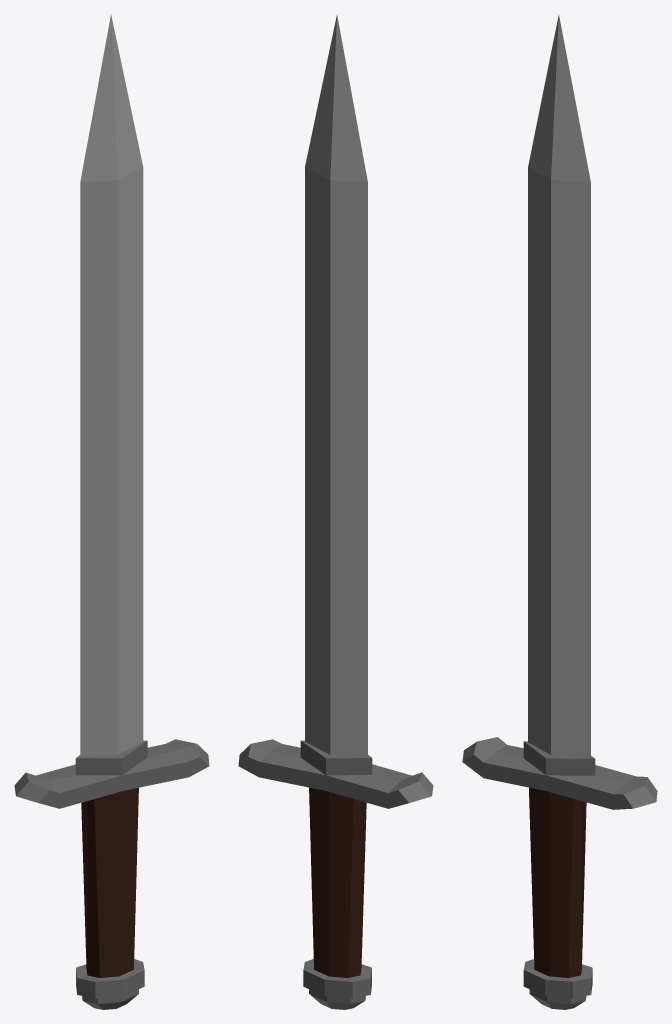
Rendered from Weapons.fbx.
3 renders of one model, left to right at view 1: azimuth 30°, elevation 25°; view 2: azimuth 150°, elevation 25°; view 3: azimuth 330°, elevation 25°, orthographic.
Parts seen in each view (by area): view 1: Cube.001; view 2: Cube.001; view 3: Cube.001.
Part boxes in pixels (x1,y1,x2,y2): Cube.001: (14, 14, 209, 1009); Cube.001: (238, 14, 433, 1009); Cube.001: (462, 14, 657, 1009).
Bounding box in the file's own units: 42.82 × 211 × 10.06.
